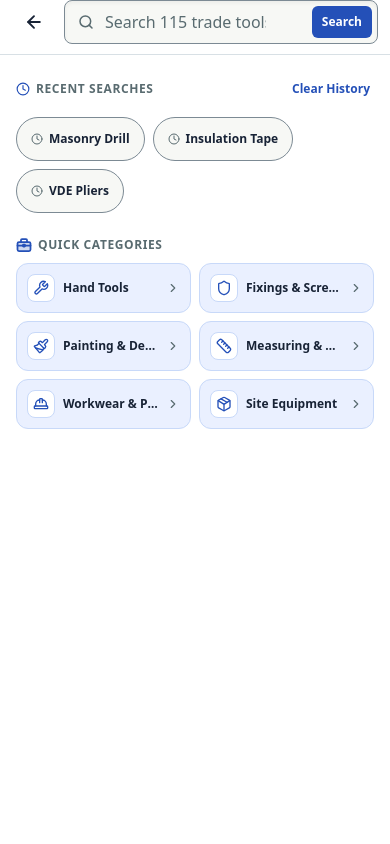
Test: Milestone 2: Specialized Mobile E-Commerce UX Patterns › 3. Mobile Search Overlay (mobile-search-overlay.tsx & header.tsx) › loads and displays recent search cues from localStorage and clears them on request
The image size is (390, 844).
// Tapping a recent search chip triggers search navigation
Click the button with test id "recent-search-chip". click: (80, 139)
box: [16,117,144,161]
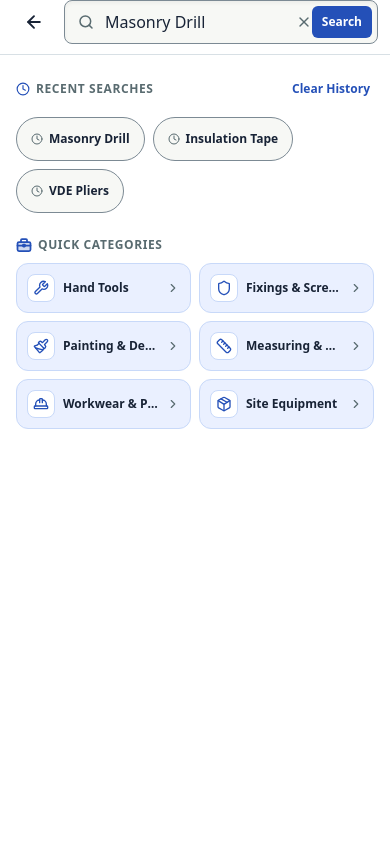
// Clear history button
Click the button with aria-label "Clear recent searches history". click: (331, 89)
box: [288,71,374,107]
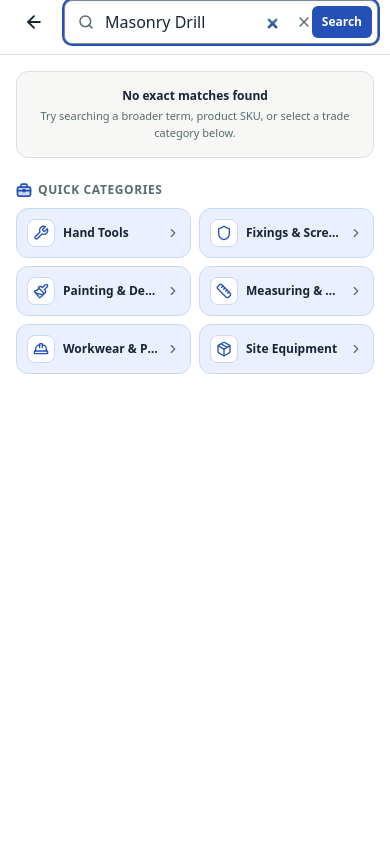
expect no buttons with test id "recent-search-chip" are shown: met
